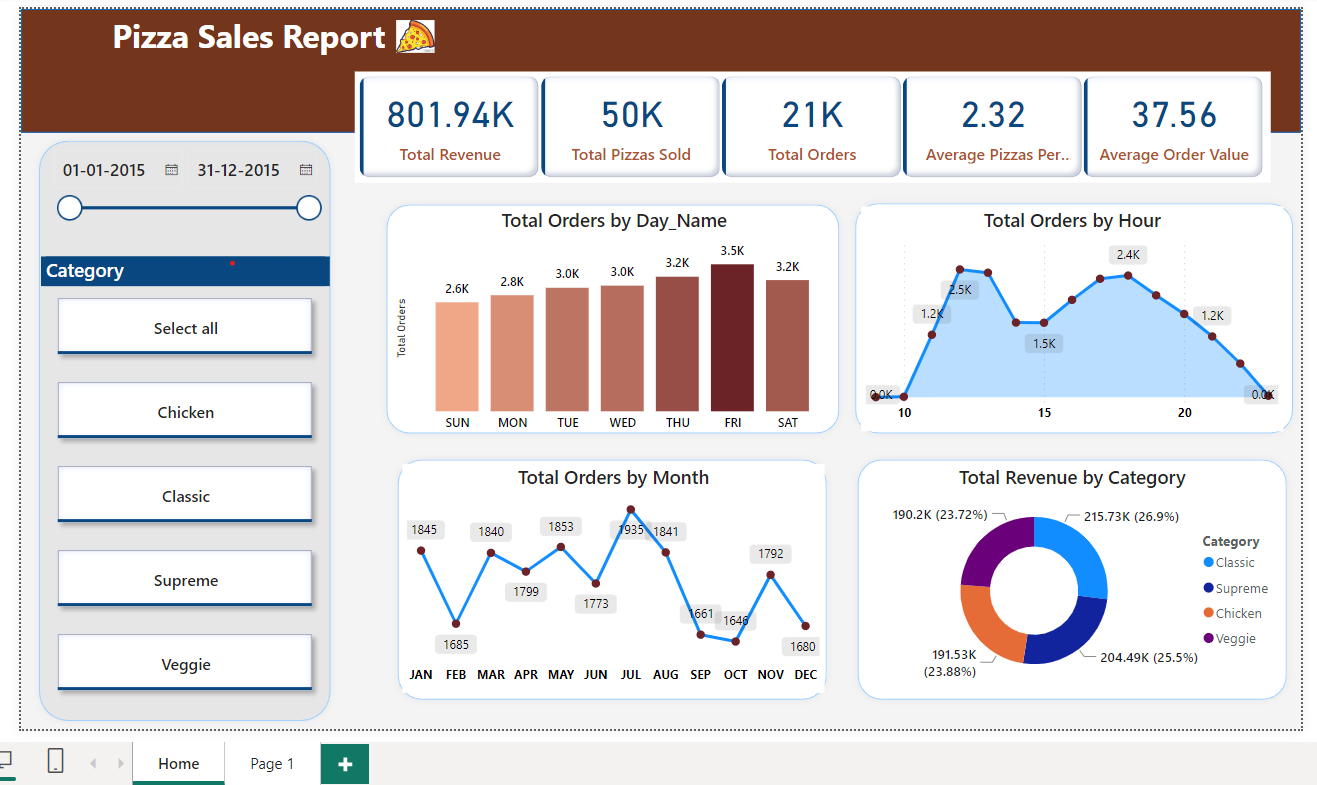

Layout of this report page (visuals, bound fields, positions):
{"tool":"powerbi","page":{"name":"Home","canvas":[1280,720],"ordinal":0},"visuals":[{"type":"shape","box":[0,0,1280,123.8],"z":0},{"type":"cardVisual","fields":{"Data":["Merged Pizza Data.Total Revenue","Merged Pizza Data.Total Pizzas Sold","Merged Pizza Data.Total Orders","Merged Pizza Data.Average Pizzas Per Order","Merged Pizza Data.Average Order Value"]},"box":[333.8,62.5,916.2,111.2],"z":1000},{"type":"textbox","box":[86.2,0,308.8,53.8],"z":2000},{"type":"image","box":[368.8,6.2,51.2,42.5],"z":3000},{"type":"shape","box":[357.5,187.5,468.8,245],"z":4000},{"type":"shape","box":[368.8,442.5,445,256.2],"z":5000},{"type":"shape","box":[826.2,186.2,453.8,246.2],"z":6000},{"type":"shape","box":[828.8,442.5,445,256.2],"z":7000},{"type":"shape","box":[10,123.8,307.5,596.2],"z":8000},{"type":"columnChart","fields":{"Y":["Merged Pizza Data.Total Orders"],"Category":["Merged Pizza Data.Day_Name"]},"box":[370,197.5,446.2,235],"z":9000},{"type":"areaChart","fields":{"Y":["Merged Pizza Data.Total Orders"],"Category":["Merged Pizza Data.Hour"]},"box":[840,197.5,422.5,225],"z":10000},{"type":"lineChart","fields":{"Category":["Merged Pizza Data.Month"],"Y":["Merged Pizza Data.Total Orders"]},"box":[381.2,455,422.5,228.8],"z":11000},{"type":"donutChart","fields":{"Y":["Merged Pizza Data.Total Revenue"],"Category":["Merged Pizza Data.category"]},"box":[840,455,422.5,228.8],"z":12000},{"type":"advancedSlicerVisual","title":"Category","fields":{"Values":["Merged Pizza Data.category"]},"box":[20,247.5,288.8,451.2],"z":13000},{"type":"slicer","fields":{"Values":["Merged Pizza Data.date"]},"box":[20,130,288.8,170],"z":14000}]}

Visuals, with their boxes on the page's 1280x720 design canvas (x1, y1, x2, y2). These are canvas units, not pixel positions in the 1317x785 screenshot, which may show the page scaled, cropped or inside an application window:
shape: rect(0, 0, 1280, 124)
cardVisual - Merged Pizza Data.Total Revenue x Merged Pizza Data.Total Pizzas Sold: rect(334, 62, 1250, 174)
textbox: rect(86, 0, 395, 54)
image: rect(369, 6, 420, 49)
shape: rect(358, 188, 826, 432)
shape: rect(369, 442, 814, 699)
shape: rect(826, 186, 1280, 432)
shape: rect(829, 442, 1274, 699)
shape: rect(10, 124, 318, 720)
columnChart - Merged Pizza Data.Total Orders x Merged Pizza Data.Day_Name: rect(370, 198, 816, 432)
areaChart - Merged Pizza Data.Total Orders x Merged Pizza Data.Hour: rect(840, 198, 1262, 422)
lineChart - Merged Pizza Data.Month x Merged Pizza Data.Total Orders: rect(381, 455, 804, 684)
donutChart - Merged Pizza Data.Total Revenue x Merged Pizza Data.category: rect(840, 455, 1262, 684)
"Category" advancedSlicerVisual: rect(20, 248, 309, 699)
slicer - Merged Pizza Data.date: rect(20, 130, 309, 300)
